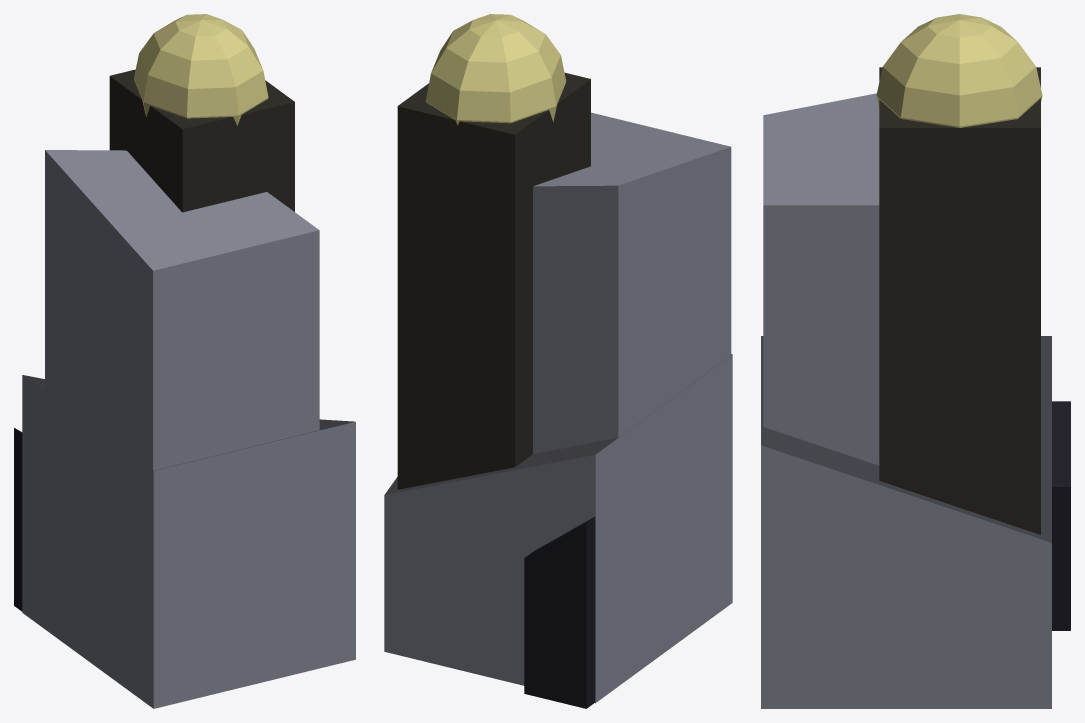
File: DoorRight.fbx
The picture shows the model from 3 angles, left to right: view 1: azimuth 30°, elevation 25°; view 2: azimuth 150°, elevation 25°; view 3: azimuth 270°, elevation 25°; orthographic projection. The views are drawn at different scales.
Visible parts, largest first — view 1: DoorLeft; view 2: DoorLeft; view 3: DoorLeft.
Part boxes in pixels (x1=…): DoorLeft: x1=14, y1=14, x2=355, y2=708; DoorLeft: x1=384, y1=14, x2=732, y2=708; DoorLeft: x1=761, y1=14, x2=1070, y2=708.
Size of the model in its own units: 178 by 496 by 213.
